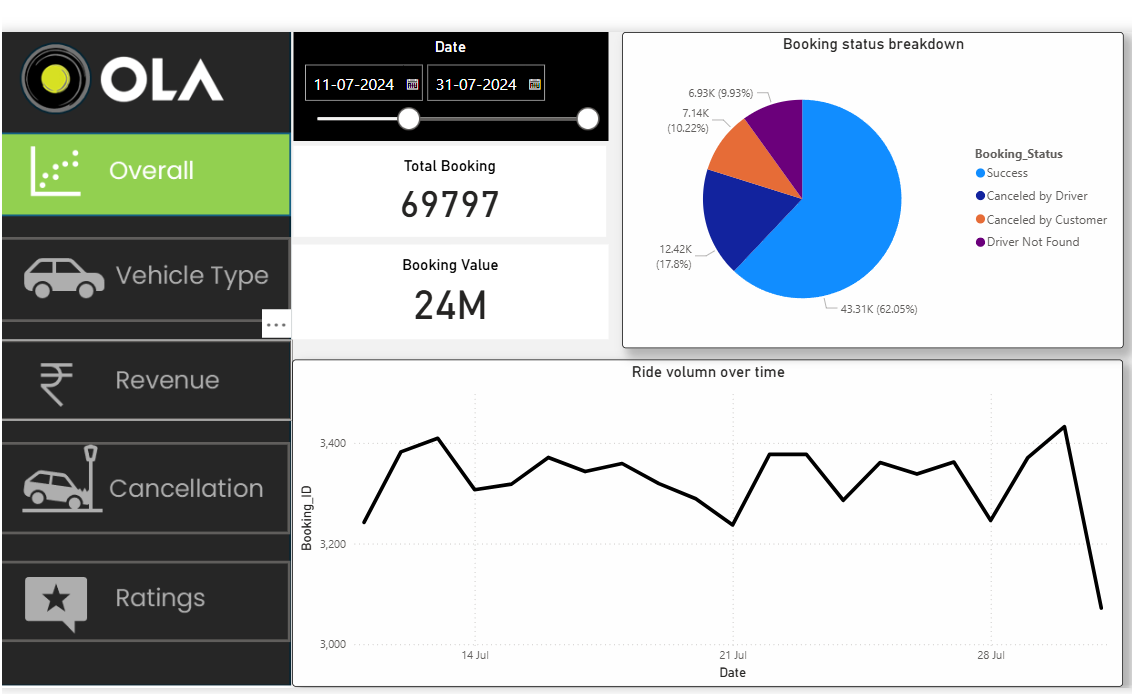

This screenshot's page, from the dashboard's own definition file:
{"tool":"powerbi","page":{"name":"Overall","canvas":[1280,720],"ordinal":0},"visuals":[{"type":"actionButton","box":[0,225,323.8,93.3],"z":0},{"type":"actionButton","box":[0,337.8,325.7,89.3],"z":1000},{"type":"actionButton","box":[0,580.3,323.3,89.3],"z":2000},{"type":"actionButton","box":[0,450,323,101.4],"z":3000},{"type":"lineChart","title":"Ride volumn over time","fields":{"Y":["CountNonNull(July (2).Booking_ID)"],"Category":["July (2).Date"]},"box":[325.7,359.5,912.2,359.5],"z":4000},{"type":"pieChart","title":" Booking status breakdown","fields":{"Category":["July (2).Booking_Status"],"Y":["CountNonNull(July (2).Booking_Status)"]},"box":[687.7,0,550.1,347.5],"z":5000},{"type":"slicer","title":" Date","fields":{"Values":["July (2).Date"]},"box":[326.6,0,344.4,119.4],"z":6000},{"type":"card","title":"Total Booking","fields":{"Values":["Count(July (2).Booking_ID)"]},"box":[326.6,124.9,343.1,100.2],"z":7000},{"type":"card","title":" Booking Value","fields":{"Values":["Sum(July (2).Booking_Value)"]},"box":[325.2,233.3,347.2,104.3],"z":8000}]}

Visuals, with their boxes in screenshot pixels (x1, y1, x2, y2):
actionButton: {"left": 0, "top": 233, "right": 290, "bottom": 318}
actionButton: {"left": 0, "top": 336, "right": 292, "bottom": 416}
actionButton: {"left": 0, "top": 555, "right": 290, "bottom": 636}
actionButton: {"left": 0, "top": 437, "right": 290, "bottom": 529}
"Ride volumn over time" lineChart: {"left": 292, "top": 355, "right": 1118, "bottom": 681}
" Booking status breakdown" pieChart: {"left": 620, "top": 30, "right": 1118, "bottom": 344}
" Date" slicer: {"left": 293, "top": 30, "right": 605, "bottom": 138}
"Total Booking" card: {"left": 293, "top": 143, "right": 604, "bottom": 233}
" Booking Value" card: {"left": 292, "top": 241, "right": 606, "bottom": 335}
